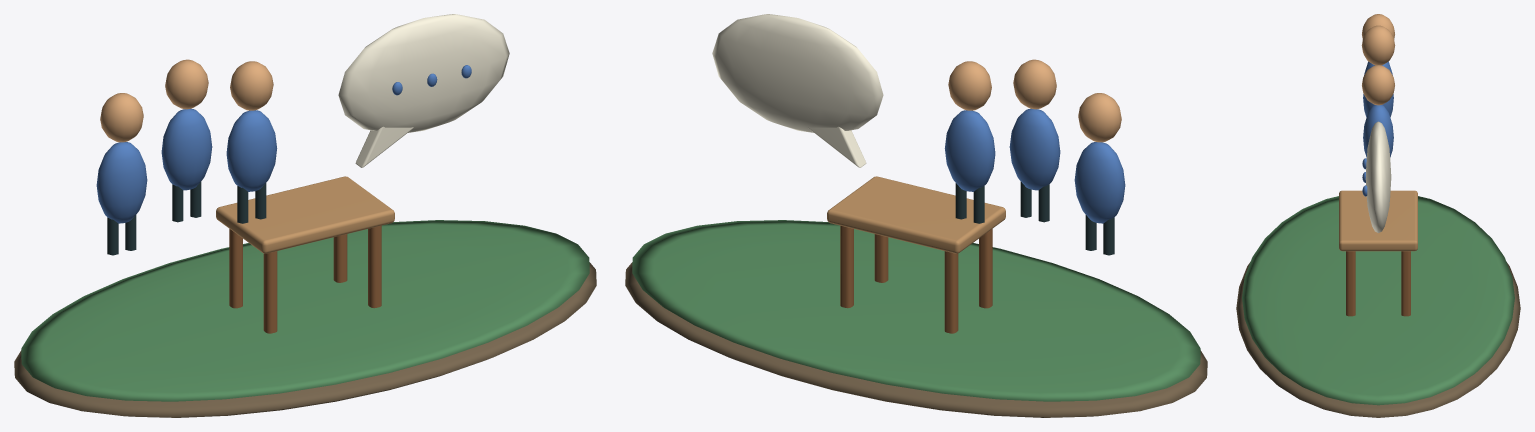
Rendered from complete-first-meeting-discussion.glb.
The picture shows the model from 3 angles, left to right: view 1: azimuth 30°, elevation 25°; view 2: azimuth 150°, elevation 25°; view 3: azimuth 270°, elevation 25°; orthographic projection. The views are drawn at different scales.
Parts seen in each view (by area): view 1: complete-first-meeting-discussion_surface_01, complete-first-meeting-discussion_surface_05, complete-first-meeting-discussion_surface_00, complete-first-meeting-discussion_surface_03, complete-first-meeting-discussion_surface_06, complete-first-meeting-discussion_surface_02, complete-first-meeting-discussion_surface_07, complete-first-meeting-discussion_surface_04; view 2: complete-first-meeting-discussion_surface_01, complete-first-meeting-discussion_surface_05, complete-first-meeting-discussion_surface_00, complete-first-meeting-discussion_surface_03, complete-first-meeting-discussion_surface_06, complete-first-meeting-discussion_surface_02, complete-first-meeting-discussion_surface_07, complete-first-meeting-discussion_surface_04; view 3: complete-first-meeting-discussion_surface_01, complete-first-meeting-discussion_surface_00, complete-first-meeting-discussion_surface_06, complete-first-meeting-discussion_surface_02, complete-first-meeting-discussion_surface_05, complete-first-meeting-discussion_surface_07, complete-first-meeting-discussion_surface_03.
Boxes of the visible parts, bbox=[...] form: complete-first-meeting-discussion_surface_01: bbox=[21, 220, 589, 401]; complete-first-meeting-discussion_surface_05: bbox=[338, 14, 509, 167]; complete-first-meeting-discussion_surface_00: bbox=[14, 262, 596, 417]; complete-first-meeting-discussion_surface_03: bbox=[96, 65, 471, 223]; complete-first-meeting-discussion_surface_06: bbox=[216, 176, 394, 253]; complete-first-meeting-discussion_surface_02: bbox=[100, 59, 273, 142]; complete-first-meeting-discussion_surface_07: bbox=[229, 225, 381, 333]; complete-first-meeting-discussion_surface_04: bbox=[107, 181, 266, 255]; complete-first-meeting-discussion_surface_01: bbox=[632, 220, 1200, 401]; complete-first-meeting-discussion_surface_05: bbox=[712, 14, 883, 167]; complete-first-meeting-discussion_surface_00: bbox=[625, 262, 1207, 417]; complete-first-meeting-discussion_surface_03: bbox=[944, 108, 1125, 223]; complete-first-meeting-discussion_surface_06: bbox=[827, 176, 1005, 253]; complete-first-meeting-discussion_surface_02: bbox=[948, 59, 1121, 142]; complete-first-meeting-discussion_surface_07: bbox=[840, 225, 992, 333]; complete-first-meeting-discussion_surface_04: bbox=[955, 181, 1114, 255]; complete-first-meeting-discussion_surface_01: bbox=[1242, 196, 1514, 405]; complete-first-meeting-discussion_surface_00: bbox=[1236, 262, 1520, 417]; complete-first-meeting-discussion_surface_06: bbox=[1339, 190, 1417, 251]; complete-first-meeting-discussion_surface_02: bbox=[1361, 14, 1395, 105]; complete-first-meeting-discussion_surface_05: bbox=[1365, 121, 1391, 232]; complete-first-meeting-discussion_surface_07: bbox=[1346, 251, 1410, 316]; complete-first-meeting-discussion_surface_03: bbox=[1362, 61, 1393, 196].
Size of the model in its own units: 4.56 by 2.41 by 2.5.
